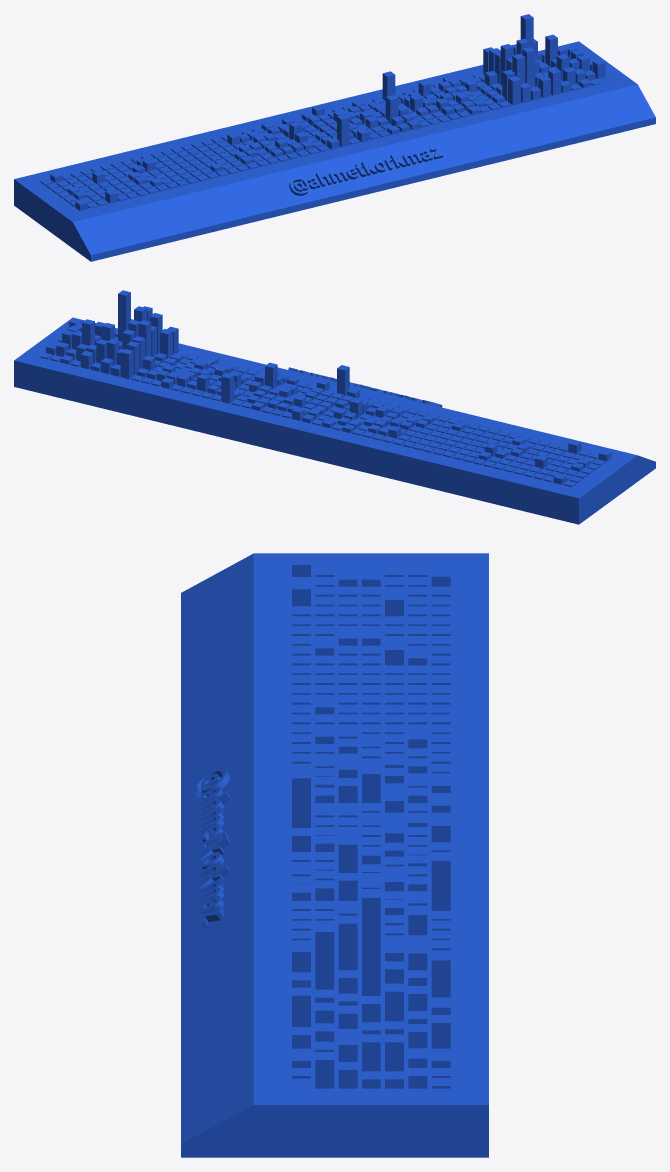
The picture shows the model from 3 angles, top to bottom: view 1: azimuth 30°, elevation 25°; view 2: azimuth 150°, elevation 25°; view 3: azimuth 270°, elevation 25°; orthographic projection. The views are drawn at different scales.
Size of the model in its own units: 0.1796 by 0.028 by 0.0424.
